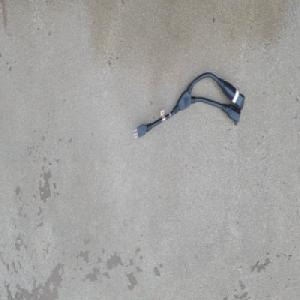Wire: (132, 70, 246, 140)
